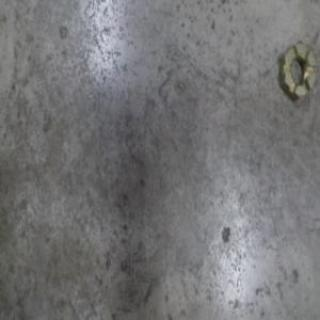Nuttrack_idkeyframe: (277, 37, 317, 104)
